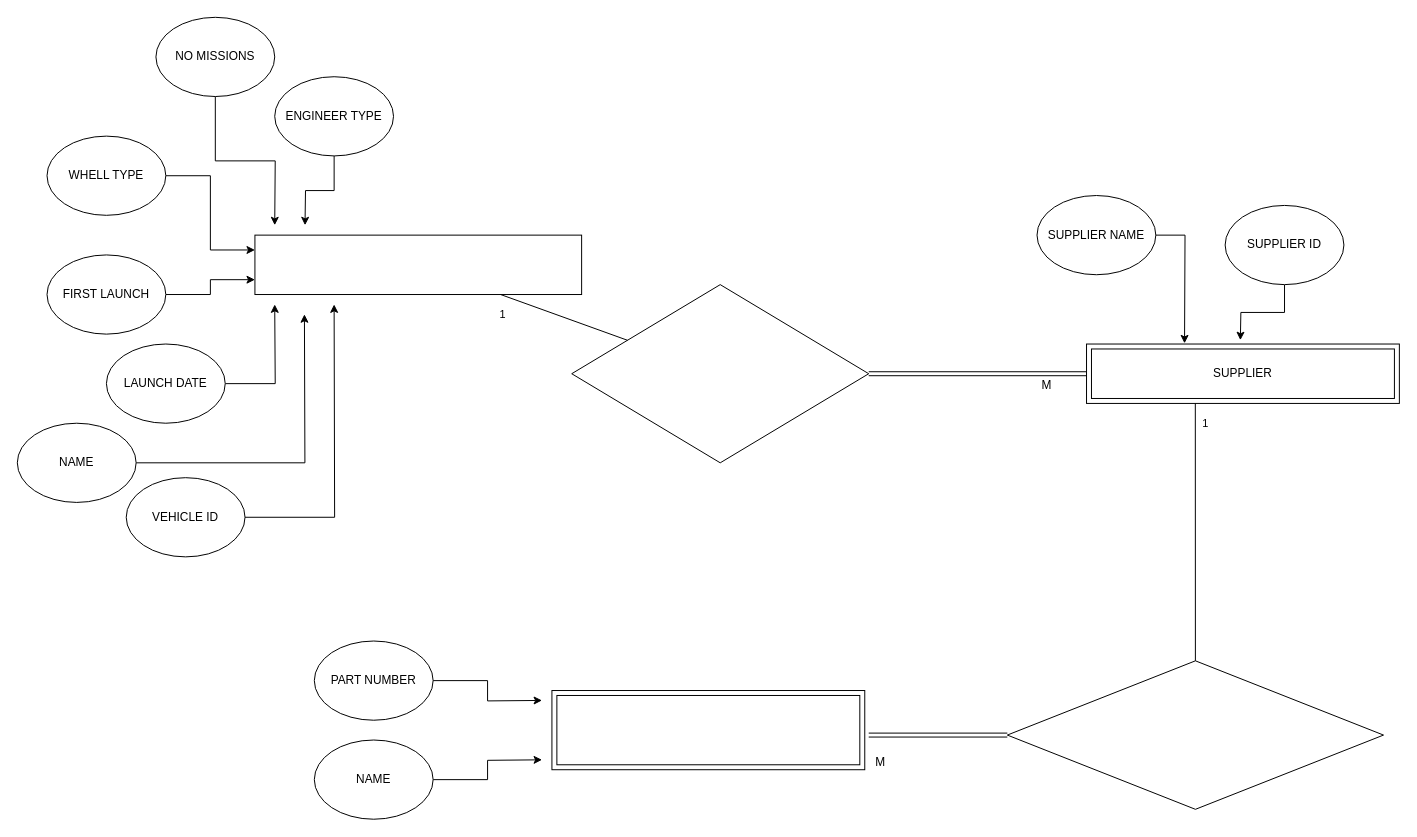
This 1417x837 diagram has some shape labels left out. The box of each missing label's shape, as (x1, y1, x2, y2) in pixels:
HAS MANY SUPPLIERS: (571, 284, 869, 463)
PARTS: (551, 690, 865, 770)
the suppliers have many parts, parts have many suppliers.: (1006, 660, 1384, 809)
VEHICLE: (254, 234, 582, 295)
